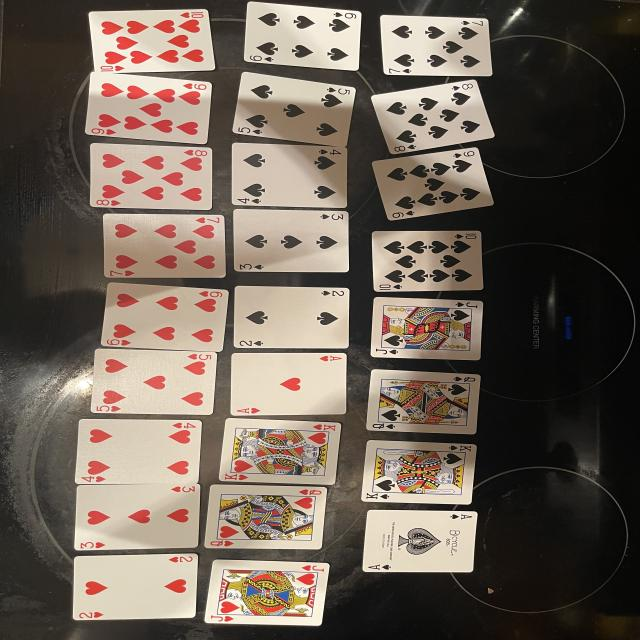10 of hearts: (88, 9, 215, 72)
10 of spades: (372, 231, 483, 292)
2 of spades: (233, 286, 350, 349)
3 of hearts: (75, 484, 200, 550)
3 of spades: (233, 209, 348, 272)
4 of hearts: (75, 419, 202, 484)
4 of spades: (232, 142, 347, 208)
5 of hearts: (92, 349, 217, 415)
5 of spades: (233, 72, 355, 146)
6 of hearts: (102, 282, 228, 352)
6 of spades: (243, 1, 362, 71)
7 of hearts: (103, 214, 225, 278)
7 of spades: (380, 15, 492, 76)
8 of hearts: (90, 144, 212, 210)
8 of spades: (372, 80, 495, 154)
9 of hearts: (85, 72, 212, 144)
9 of spades: (372, 148, 493, 220)
Ace of hearts: (73, 554, 198, 620), (230, 352, 347, 416)
Ace of spades: (362, 510, 478, 572)
Jack of hearts: (205, 559, 328, 626)
Jack of spades: (370, 298, 483, 360)
King of hearts: (220, 419, 342, 485)
King of spades: (362, 440, 477, 504)
Queen of hearts: (205, 485, 327, 550)
Queen of spades: (367, 369, 480, 434)
